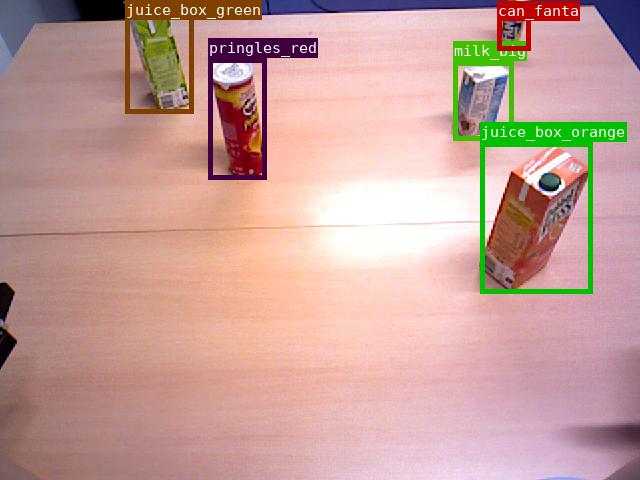can_fanta: (497, 1, 530, 50)
juice_box_green: (125, 0, 193, 113)
juice_box_orange: (480, 142, 592, 293)
milk_big: (453, 61, 513, 140)
pringles_red: (208, 58, 266, 179)
